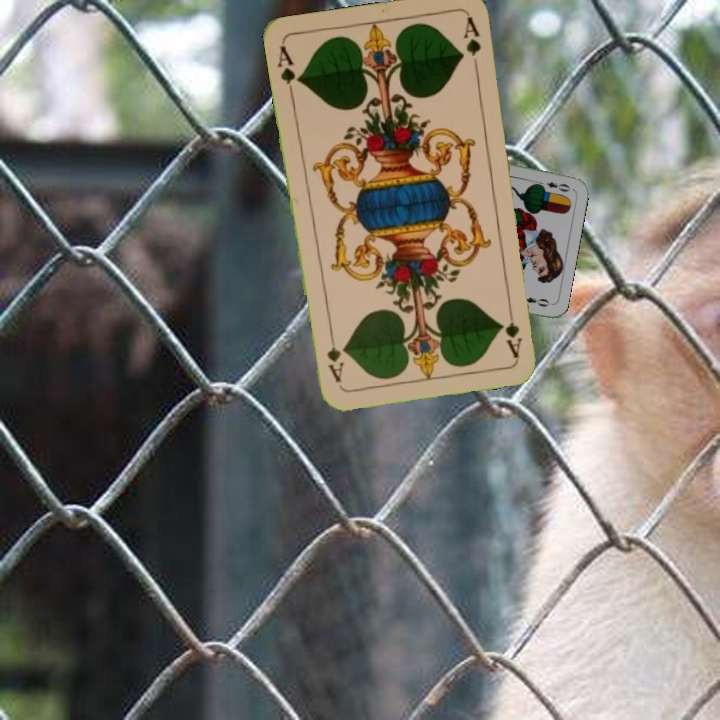EO: (533, 177, 573, 194)
GA: (273, 41, 304, 100), (501, 300, 525, 360)
